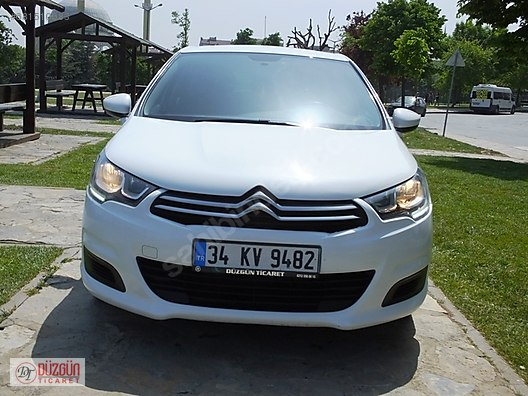citroen: (75, 43, 435, 334)
